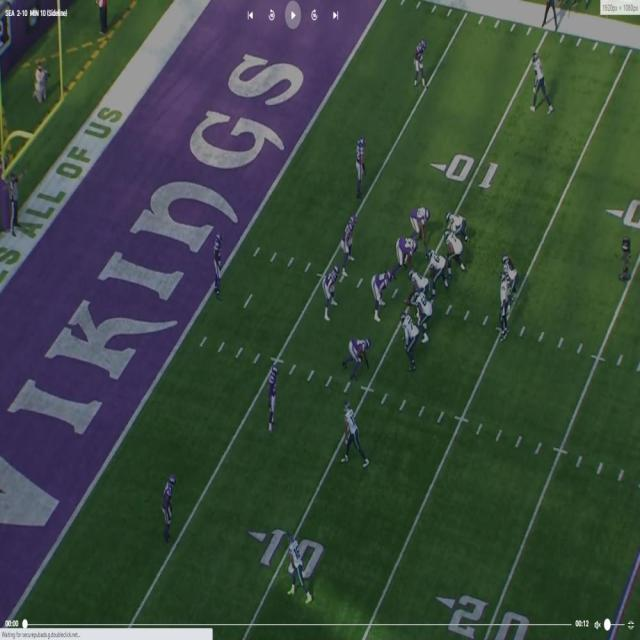center: (404, 268, 427, 307)
db: (270, 360, 282, 424), (212, 232, 223, 301), (162, 474, 175, 528), (416, 38, 430, 84), (356, 136, 365, 191)
lb: (324, 264, 340, 316), (345, 213, 358, 268)
qb: (498, 273, 510, 334)
skill: (288, 538, 309, 597), (346, 402, 364, 459), (532, 52, 550, 106), (502, 254, 516, 293), (444, 212, 469, 232)
